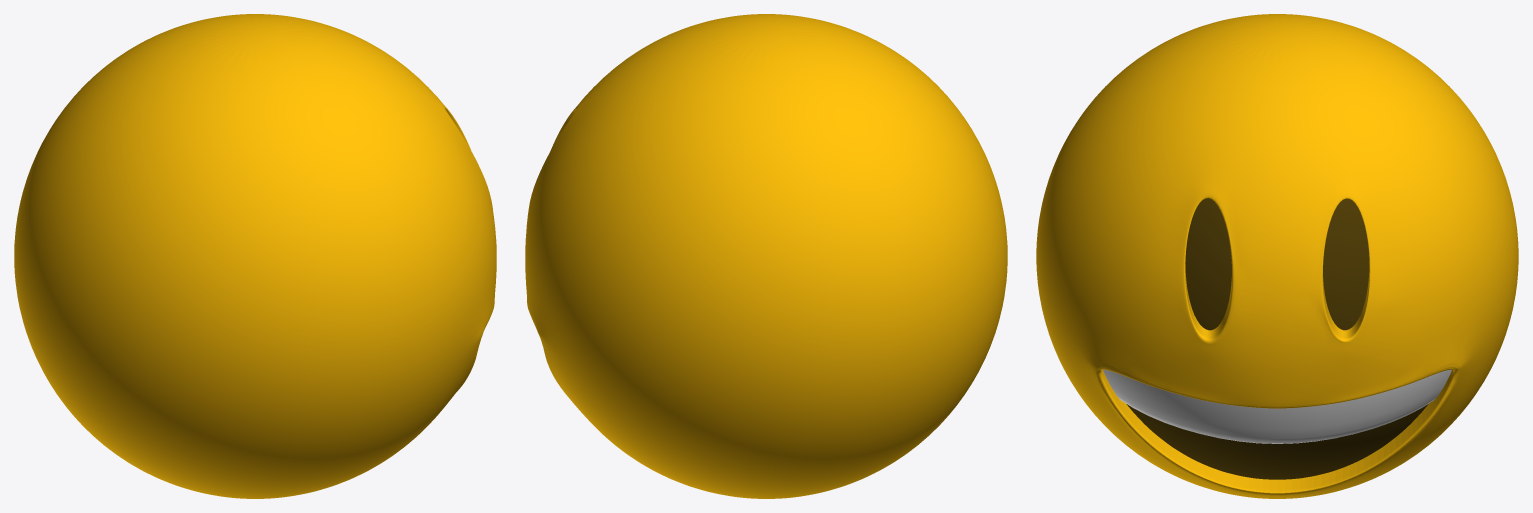
The model's file is newsmile.glb.
The picture shows the model from 3 angles, left to right: view 1: azimuth 30°, elevation 25°; view 2: azimuth 150°, elevation 25°; view 3: azimuth 270°, elevation 25°; orthographic projection.
Visible parts, largest first — view 1: grinning face with big eyes; view 2: grinning face with big eyes; view 3: grinning face with big eyes, body-inner.003, teeth.005.
Boxes of the visible parts, left/top/right/bottom form: grinning face with big eyes: left=14, top=14, right=496, bottom=498; grinning face with big eyes: left=525, top=14, right=1007, bottom=498; grinning face with big eyes: left=1036, top=14, right=1518, bottom=498; body-inner.003: left=1126, top=198, right=1428, bottom=479; teeth.005: left=1103, top=369, right=1451, bottom=443.
Size of the model in its own units: 1.97 by 2 by 1.97.
